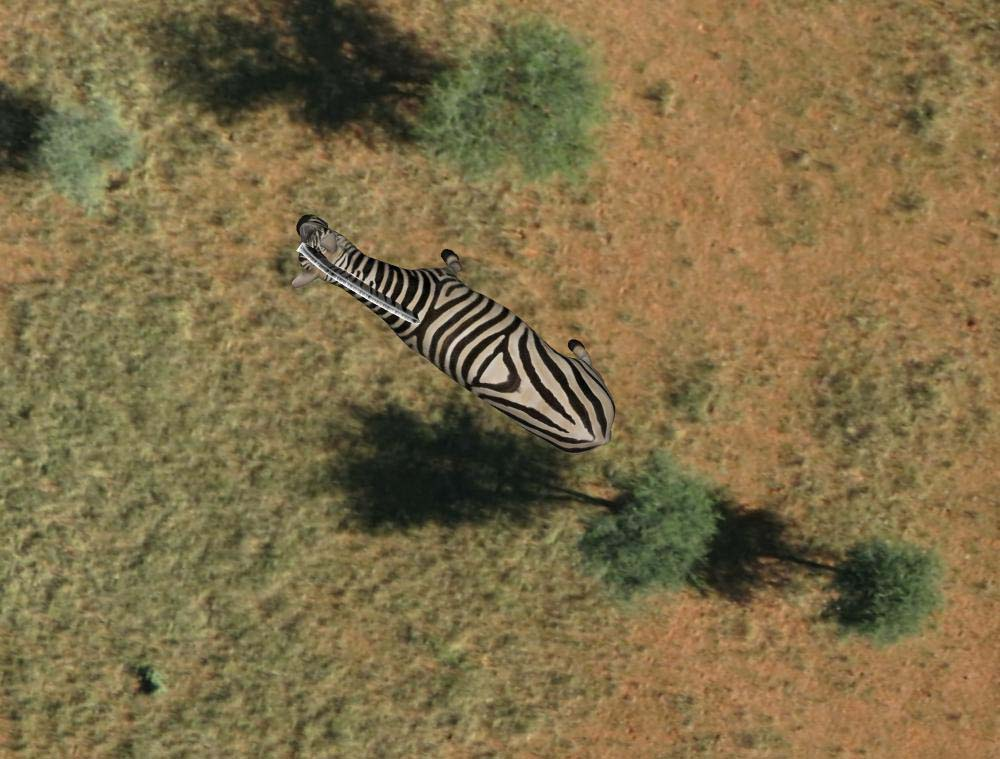zebra: (290, 205, 621, 458)
